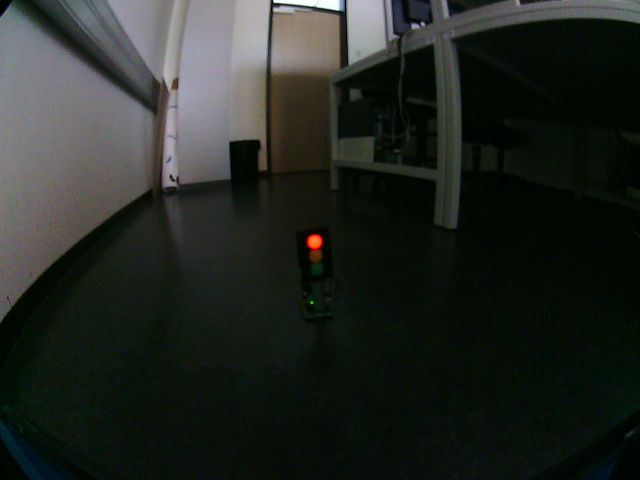red trafficlight: (302, 230, 326, 281)
